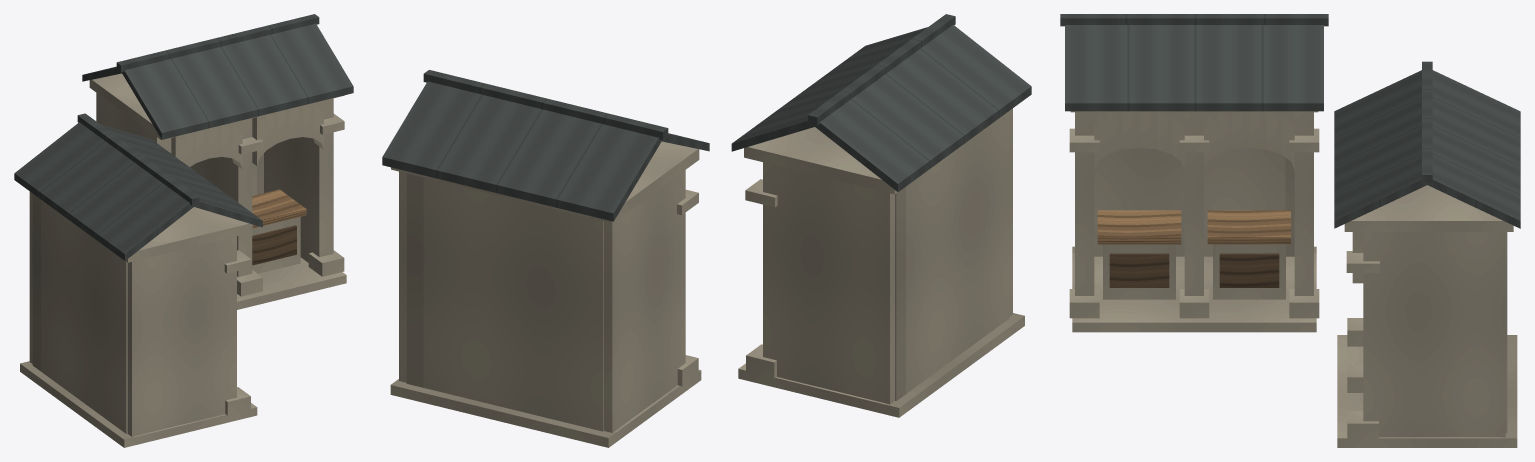
The model's file is port-harcourt.glb.
The picture shows the model from 3 angles, left to right: view 1: azimuth 30°, elevation 25°; view 2: azimuth 150°, elevation 25°; view 3: azimuth 270°, elevation 25°; orthographic projection. The views are drawn at different scales.
Visible parts, largest first — view 1: port-harcourt; view 2: port-harcourt; view 3: port-harcourt.
Part boxes in pixels (box(x1,y1,x2,y2)): port-harcourt: box(14, 14, 353, 447); port-harcourt: box(382, 14, 1031, 447); port-harcourt: box(1060, 14, 1520, 447).
Bounding box in the file's own units: 3.52 × 2.3 × 3.45.
1 material, 1 textured.
